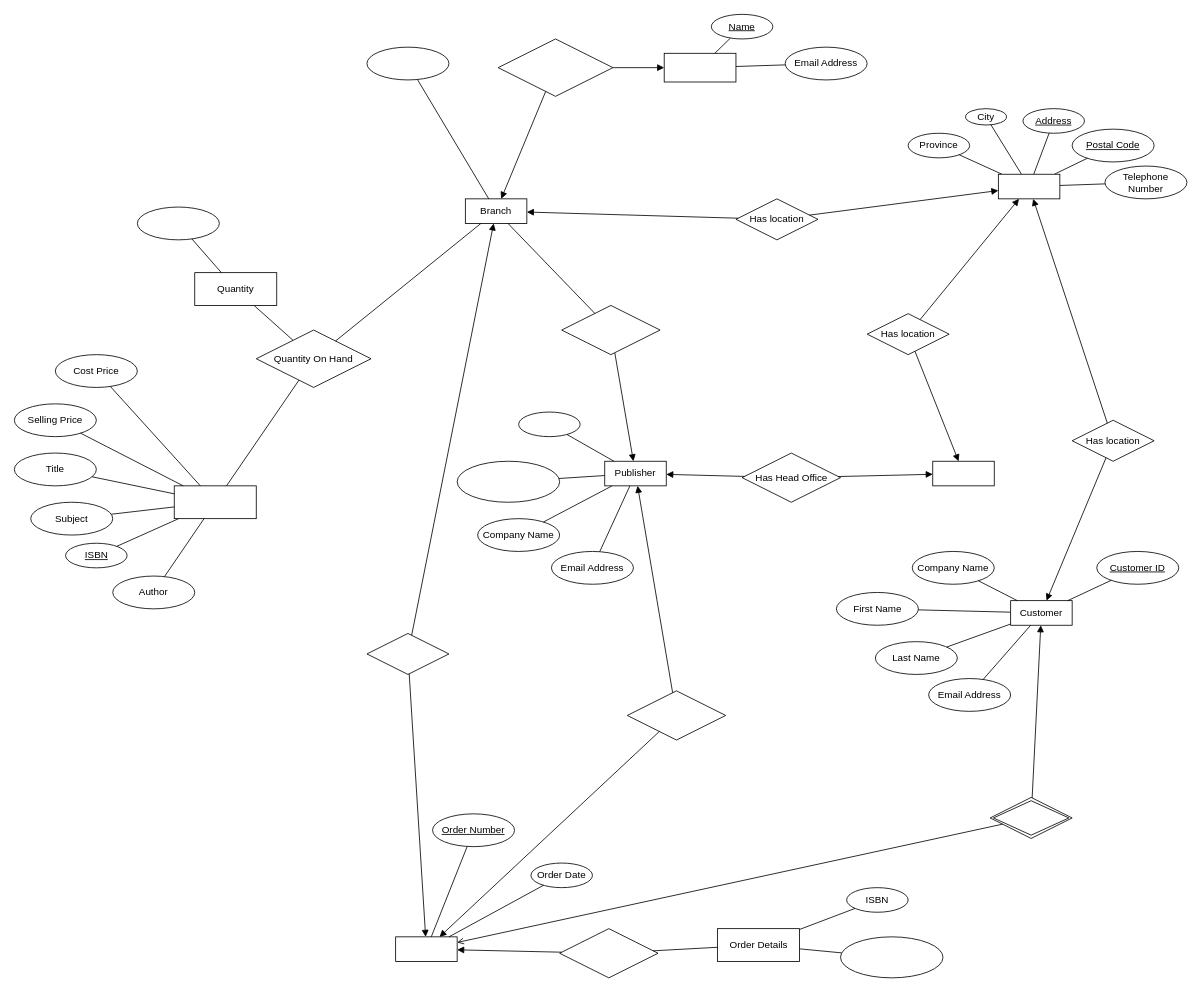
This 1201x992 diagram has some shape labels left out. The shapes that lost their labels are listed below. From the top down, each one's centre as x and y in pixels, then its label:
At point (407, 63): "Branch Name".
At point (555, 67): "Has Representative".
At point (699, 67): "Representative".
At point (1029, 186): "Location".
At point (178, 223): "Quantity Integer".
At point (610, 330): "Has Branch(es)".
At point (549, 424): "Website".
At point (508, 481): "Publisher Number".
At point (963, 473): "Head Office".
At point (214, 502): "Books".
At point (407, 653): "Shipped By".
At point (676, 715): "Ordered From".
At point (1030, 817): "Deliver To".
At point (426, 948): "Orders".
At point (608, 953): "Order Contains".
At point (891, 957): "Quantity Ordered".
